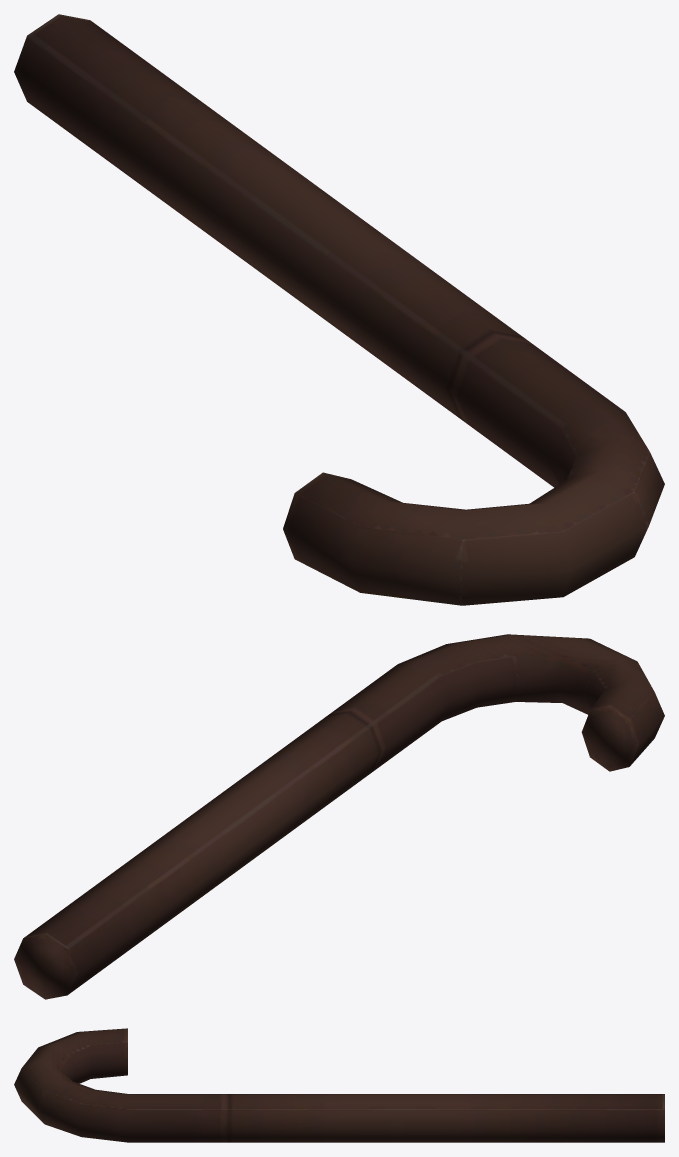
The model's file is SM_Walking_stickA.glb.
3 views of the same model, one above another, from view 1: azimuth 30°, elevation 25°; view 2: azimuth 150°, elevation 25°; view 3: azimuth 270°, elevation 25° (orthographic). The views are drawn at different scales.
Parts seen in each view (by area): view 1: SM_Walking_stickA; view 2: SM_Walking_stickA; view 3: SM_Walking_stickA.
Boxes of the visible parts, x1,y1,x2,y2 form: SM_Walking_stickA: (14, 14, 664, 605); SM_Walking_stickA: (14, 634, 664, 999); SM_Walking_stickA: (14, 1028, 664, 1142).
Size of the model in its own units: 0.2389 by 0.06 by 0.7544.
1 material, 1 textured.
